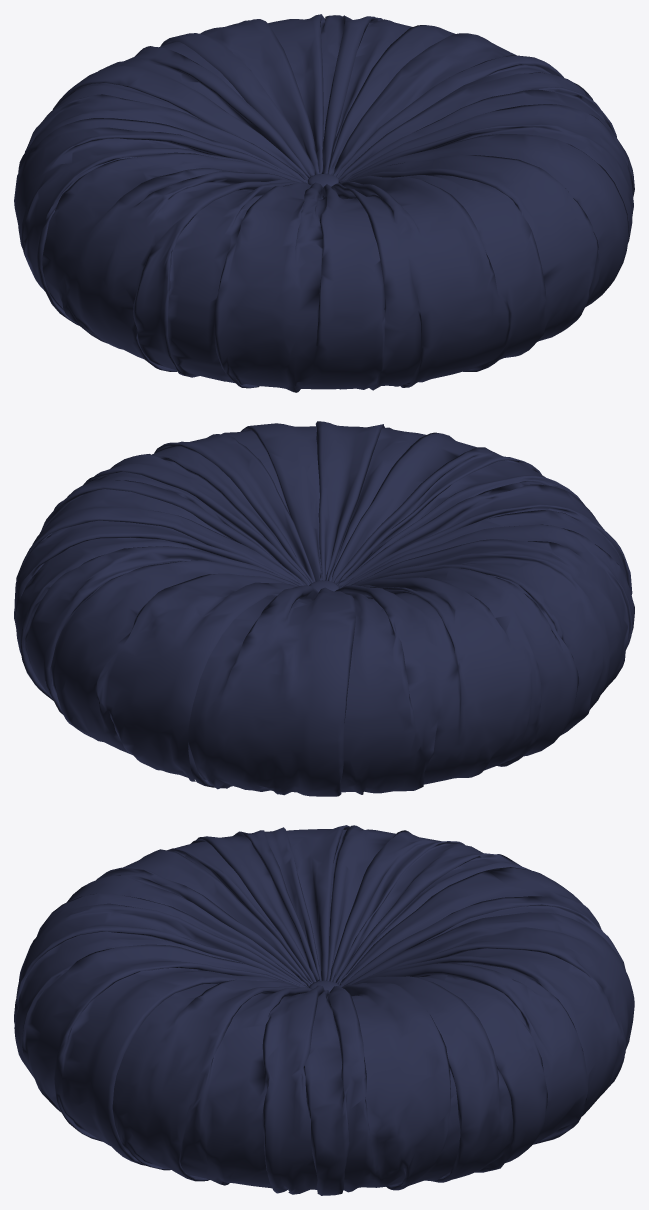
Rendered from pouf.glb.
3 renders of one model, top to bottom at view 1: azimuth 30°, elevation 25°; view 2: azimuth 150°, elevation 25°; view 3: azimuth 270°, elevation 25°, orthographic.
Parts seen in each view (by area): view 1: SpecularSilkPouf; view 2: SpecularSilkPouf; view 3: SpecularSilkPouf.
Part boxes in pixels (x1,y1,x2,y2): SpecularSilkPouf: (14, 14, 634, 392); SpecularSilkPouf: (14, 421, 634, 796); SpecularSilkPouf: (14, 825, 634, 1195).
Bounding box in the file's own units: 0.6099 × 0.1978 × 0.61.
